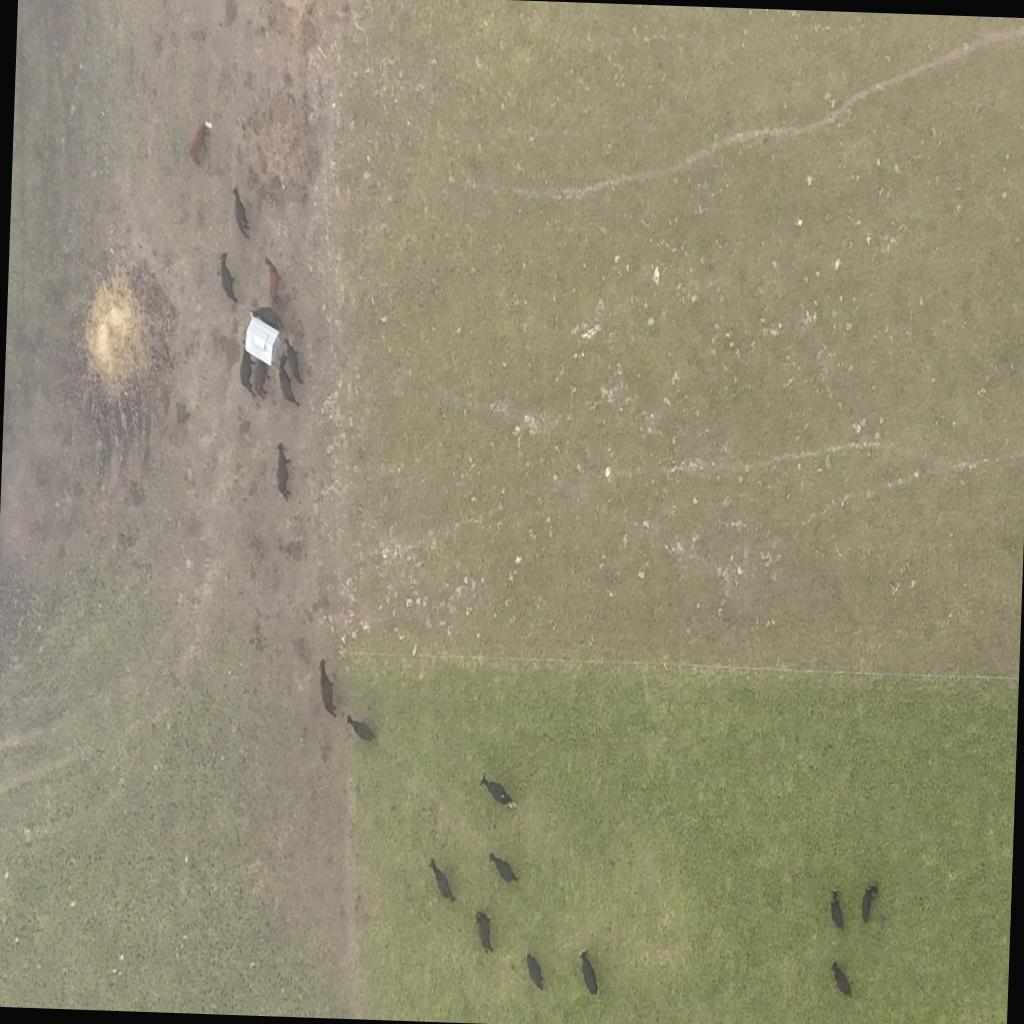cow: (479, 772, 517, 810), (427, 856, 456, 904), (317, 658, 339, 718), (230, 183, 252, 240), (217, 250, 239, 306), (280, 335, 304, 386), (272, 440, 292, 500), (262, 255, 284, 307), (578, 947, 600, 997), (488, 850, 520, 884), (238, 344, 258, 397), (474, 907, 494, 955), (830, 960, 854, 998), (250, 354, 270, 398), (524, 950, 544, 990), (346, 714, 374, 742), (860, 882, 878, 924), (829, 888, 845, 931)
